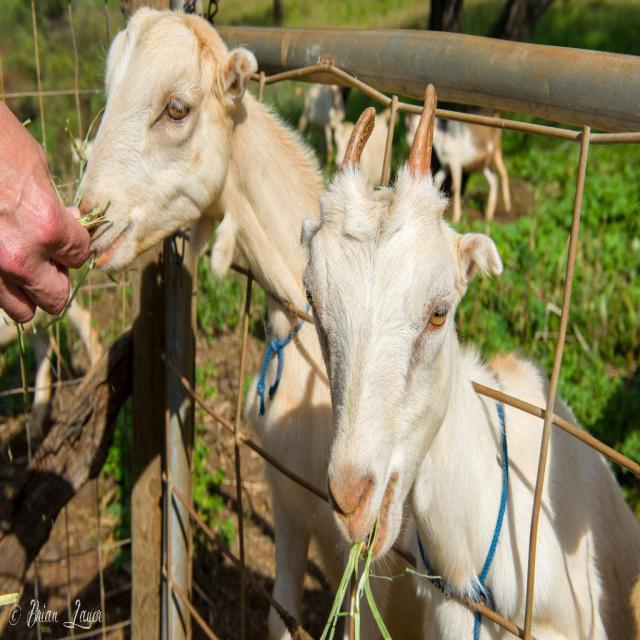Goat: (72, 4, 430, 638), (298, 81, 639, 638)
